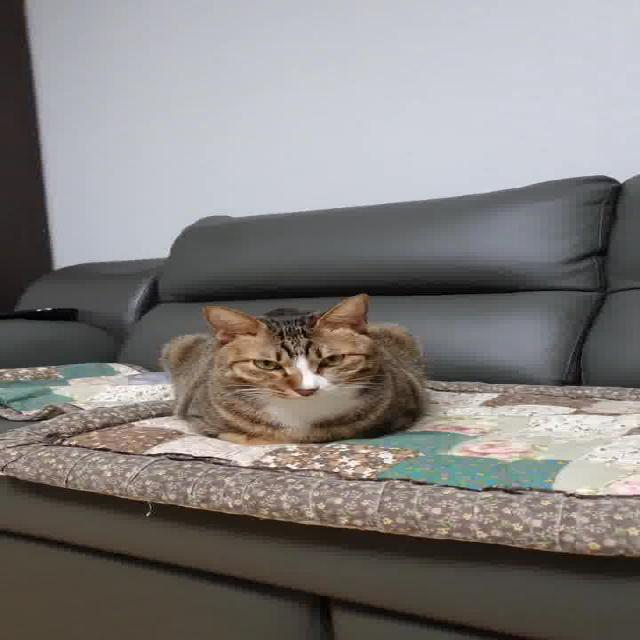cat: (134, 291, 478, 447)
